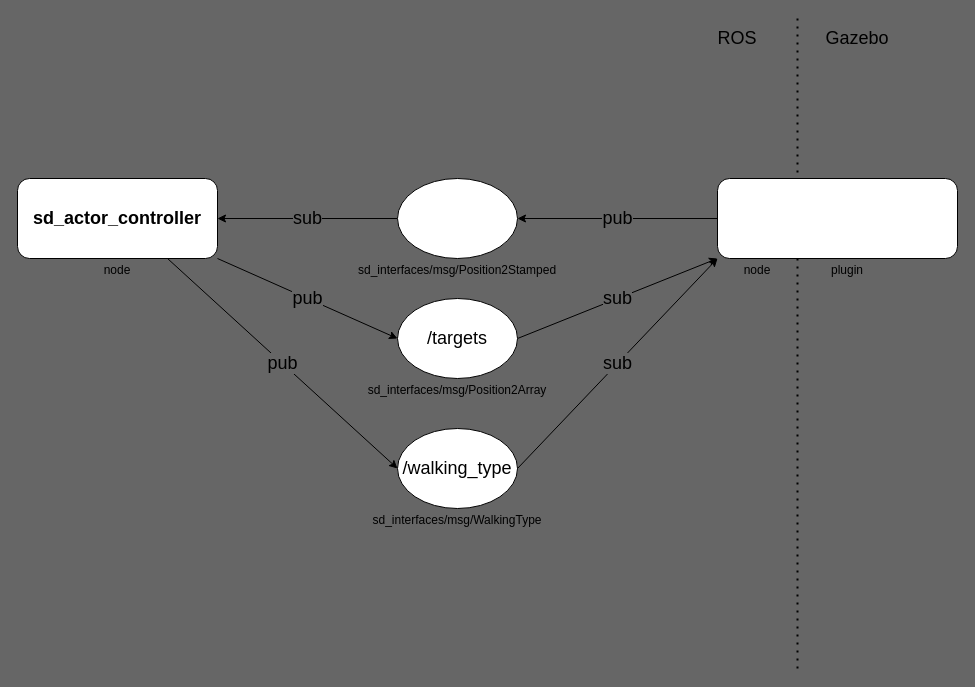
This 975x687 diagram has some shape labels left out. Here are the shapes that lost their labels. From the top down, the centre of each, then its label:
point 457,218: /pos
point 837,218: sd_actor_plugin
